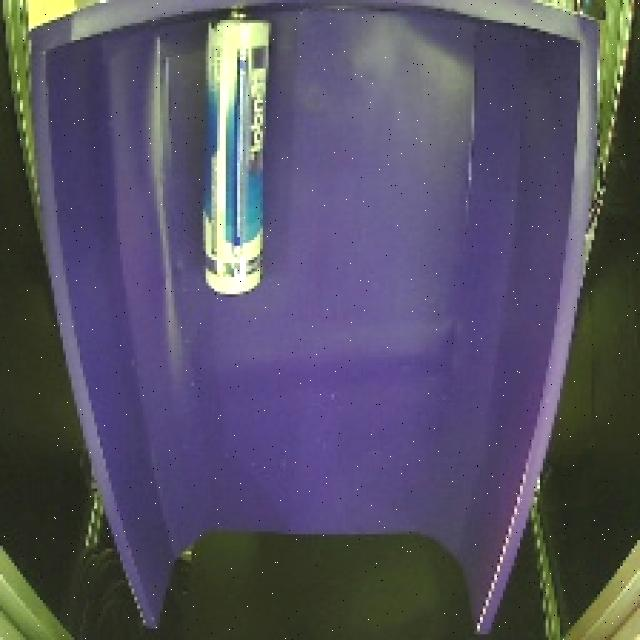battery: (188, 7, 280, 310)
